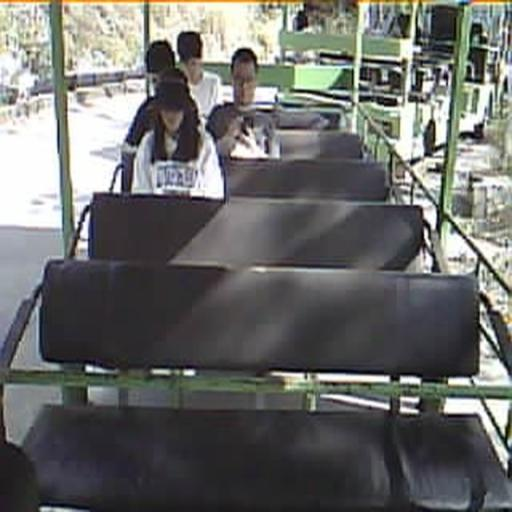persona: (130, 68, 228, 203), (206, 47, 279, 160), (123, 39, 176, 148), (175, 30, 222, 117)
